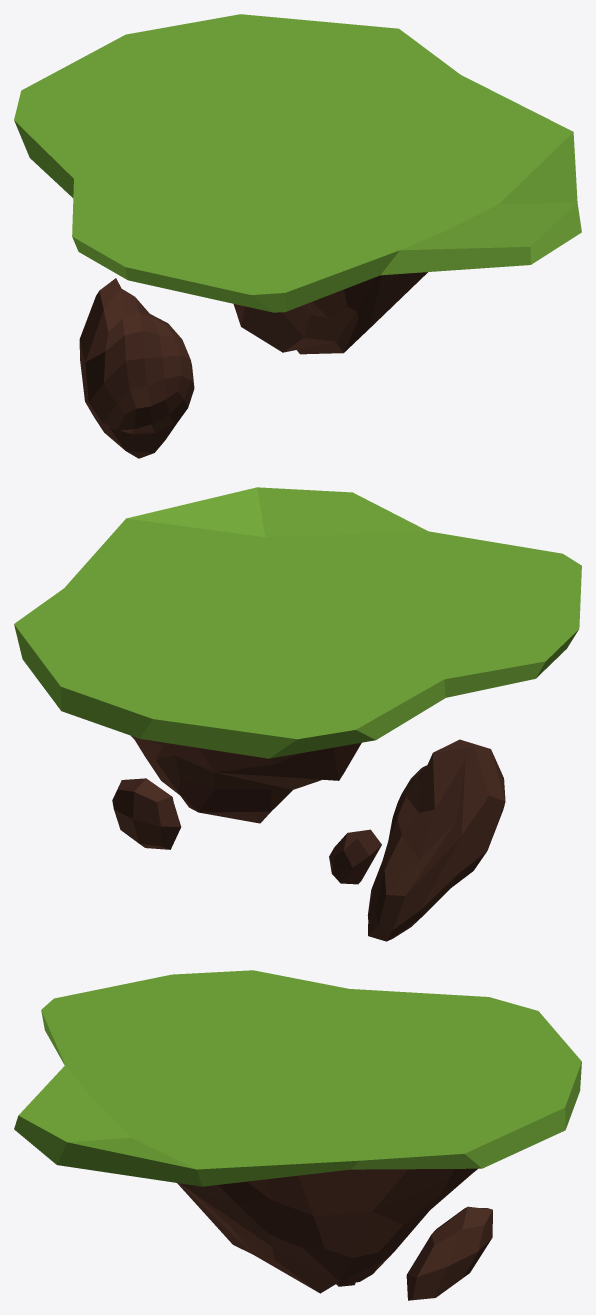
File: island1.glb
The picture shows the model from 3 angles, top to bottom: view 1: azimuth 30°, elevation 25°; view 2: azimuth 150°, elevation 25°; view 3: azimuth 270°, elevation 25°; orthographic projection. The views are drawn at different scales.
Parts seen in each view (by area): view 1: Cube, rocks; view 2: Cube, rocks; view 3: Cube, rocks.
Boxes of the visible parts, bbox=[...] form: Cube: bbox=[14, 14, 581, 312]; rocks: bbox=[79, 272, 427, 458]; Cube: bbox=[14, 487, 581, 758]; rocks: bbox=[112, 736, 505, 941]; Cube: bbox=[14, 970, 581, 1186]; rocks: bbox=[177, 1168, 492, 1300].
Size of the model in its own units: 8.98 by 5.46 by 10.23.
3 materials, 3 textured.
